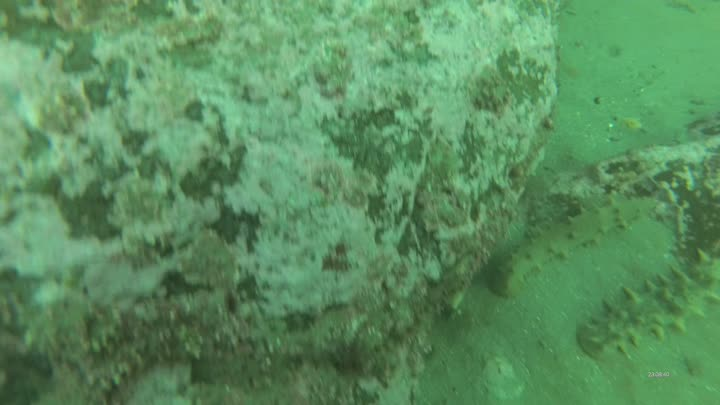holothurian: (488, 196, 656, 296), (579, 250, 720, 359)
